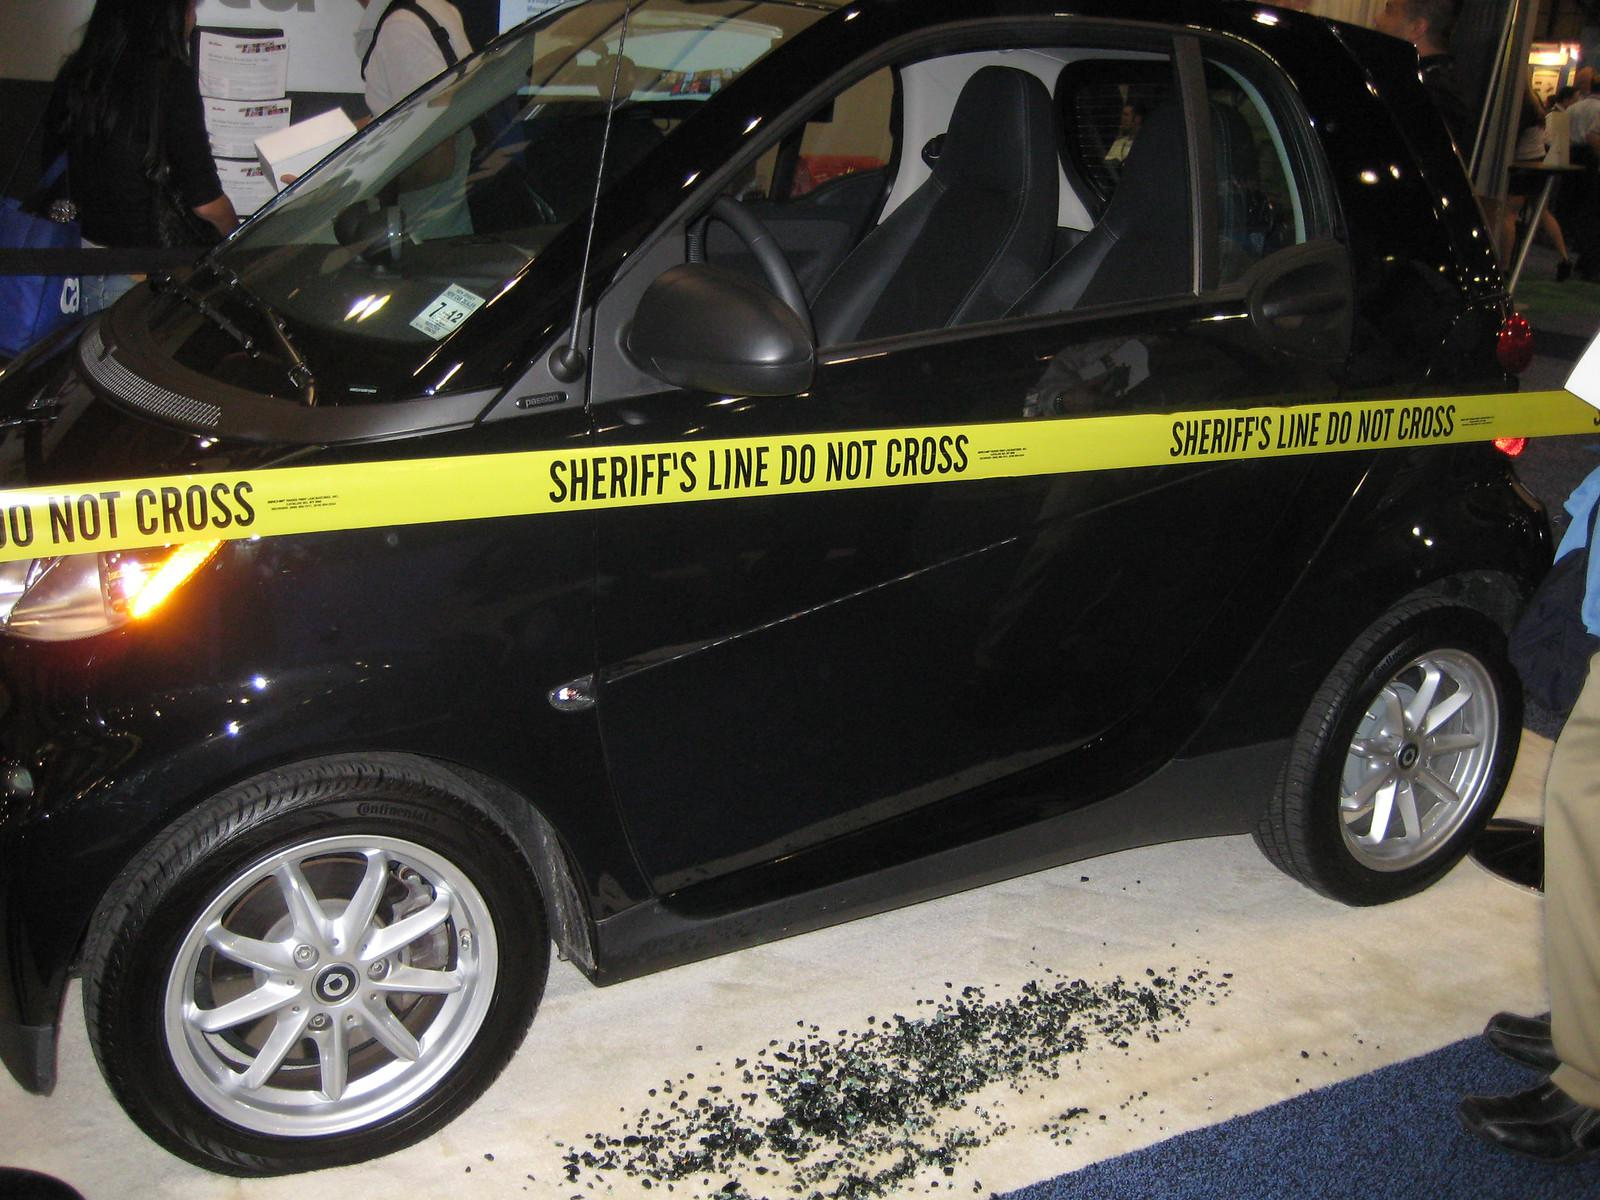doorouter-dent: (965, 330, 1284, 726)
